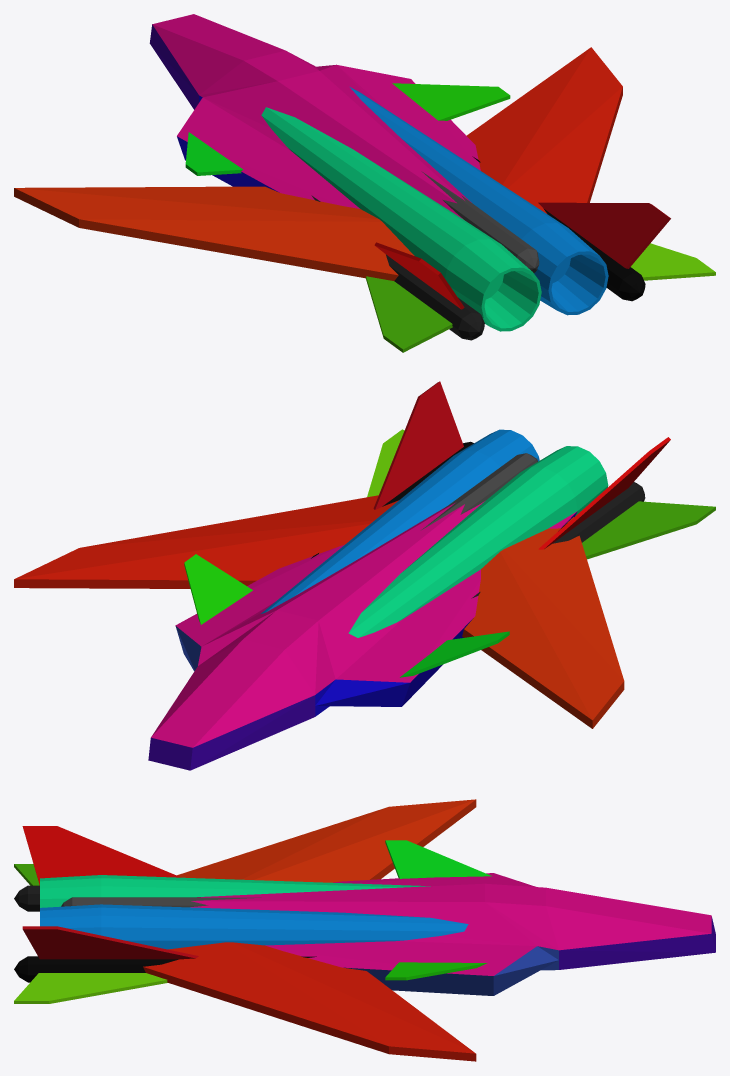
3 views of the same model, one above another, from view 1: azimuth 30°, elevation 25°; view 2: azimuth 150°, elevation 25°; view 3: azimuth 270°, elevation 25° (orthographic). The views are drawn at different scales.
Parts seen in each view (by area): view 1: hull; view 2: hull; view 3: hull.
Part boxes in pixels (left/top/right/bottom): hull: left=14, top=14, right=715, bottom=352; hull: left=14, top=381, right=715, bottom=770; hull: left=14, top=799, right=715, bottom=1061.
Size of the model in its own units: 0.69 by 0.1011 by 0.805.
